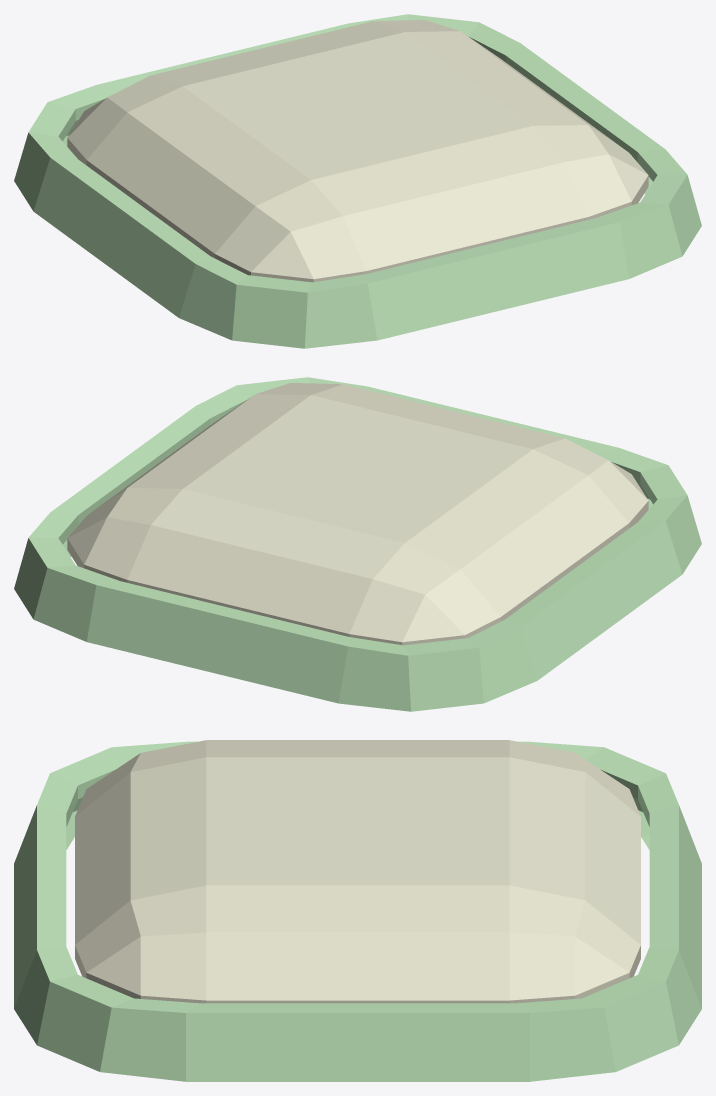
The model's file is Pressure_Plate.fbx.
The picture shows the model from 3 angles, top to bottom: view 1: azimuth 30°, elevation 25°; view 2: azimuth 150°, elevation 25°; view 3: azimuth 270°, elevation 25°; orthographic projection. The views are drawn at different scales.
Parts seen in each view (by area): view 1: plate, housing; view 2: plate, housing; view 3: plate, housing.
Boxes of the visible parts, x1=… form: plate: x1=67, y1=20, x2=648, y2=282; housing: x1=14, y1=14, x2=701, y2=348; plate: x1=67, y1=383, x2=648, y2=645; housing: x1=14, y1=377, x2=701, y2=711; plate: x1=75, y1=740, x2=640, y2=1003; housing: x1=14, y1=741, x2=701, y2=1081.
Size of the model in its own units: 0.6271 by 0.1158 by 0.6271.
